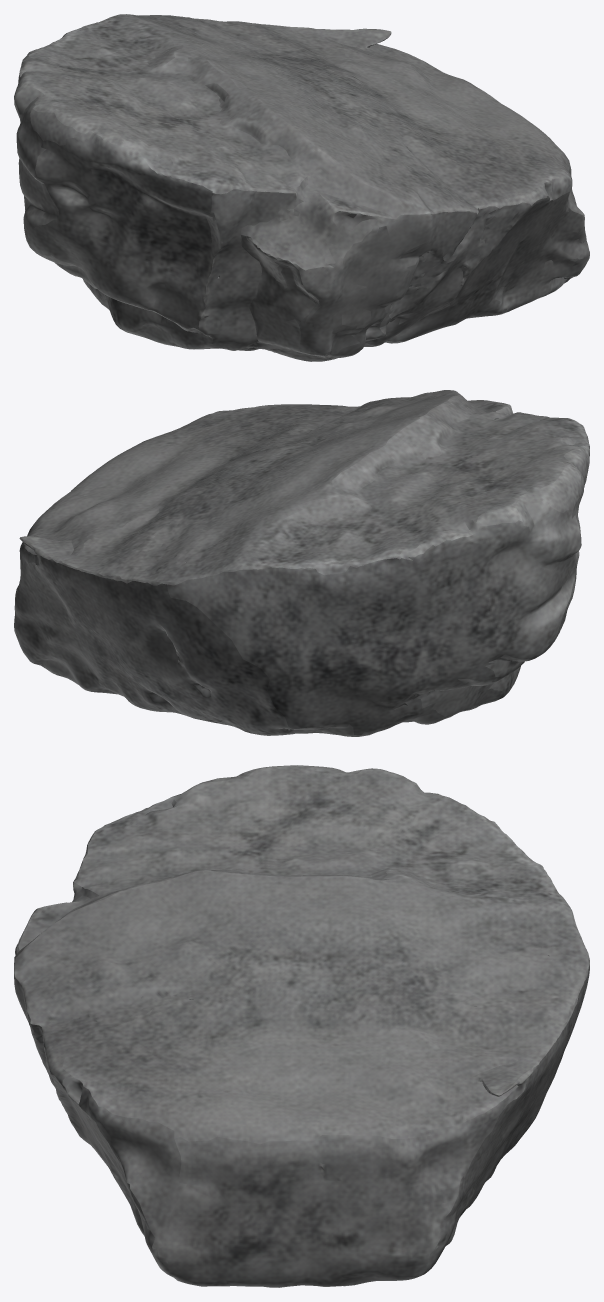
3 views of the same model, one above another, from view 1: azimuth 30°, elevation 25°; view 2: azimuth 150°, elevation 25°; view 3: azimuth 270°, elevation 25° (orthographic). The views are drawn at different scales.
Parts seen in each view (by area): view 1: world; view 2: world; view 3: world.
Boxes of the visible parts, <box> form: world: <box>14,14,589,361</box>; world: <box>14,390,589,736</box>; world: <box>14,765,589,1287</box>.
Size of the model in its own units: 1.2 by 0.5972 by 1.1.
1 material, 1 textured.
